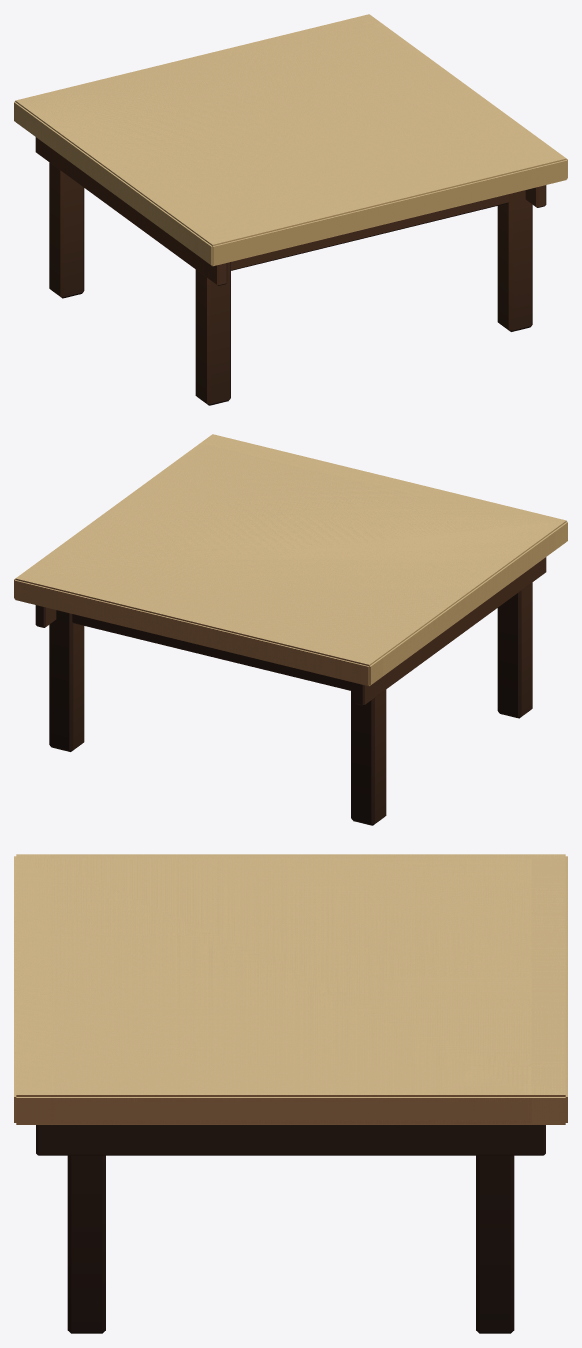
File: table_set.glb
3 renders of one model, top to bottom at view 1: azimuth 30°, elevation 25°; view 2: azimuth 150°, elevation 25°; view 3: azimuth 270°, elevation 25°, orthographic. The views are drawn at different scales.
Parts seen in each view (by area): view 1: m8, m12, m0, m10, m14, m9, m4, m11, m6, m2, m3, m15 (+4 smaller); view 2: m12, m4, m0, m14, m5, m6, m2, m8, m7, m10, m13, m3 (+1 smaller); view 3: m0, m1, m5, m4, m9, m8, m13, m12, m3, m2, m7, m11 (+1 smaller).
Part boxes in pixels (x1,y1,x2,y2): m8: (26, 24, 567, 285); m12: (14, 14, 565, 282); m0: (35, 25, 548, 405); m10: (108, 27, 560, 263); m14: (19, 17, 549, 240); m9: (91, 25, 566, 264); m4: (14, 14, 468, 271); m11: (94, 27, 559, 258); m6: (15, 15, 425, 226); m2: (26, 25, 509, 270); m3: (113, 26, 509, 268); m15: (156, 18, 527, 236); m12: (14, 435, 567, 704); m4: (14, 444, 555, 705); m0: (34, 445, 532, 825); m14: (40, 438, 561, 663); m5: (14, 444, 499, 683); m6: (20, 445, 507, 685); m2: (72, 445, 555, 689); m8: (153, 434, 567, 675); m7: (21, 448, 495, 679); m10: (198, 435, 564, 608); m13: (22, 434, 453, 661); m3: (73, 445, 446, 680); m0: (54, 856, 527, 1333); m1: (50, 858, 531, 1124); m5: (50, 858, 567, 1095); m4: (50, 854, 567, 1155); m9: (14, 858, 531, 1096); m8: (14, 854, 531, 1155); m13: (16, 858, 565, 1094); m12: (16, 854, 565, 1155); m3: (50, 858, 531, 1088); m2: (50, 854, 531, 1090); m7: (50, 858, 565, 1086); m11: (15, 858, 530, 1055).
Bounding box in the file's own units: 1.04 × 0.5 × 1.
